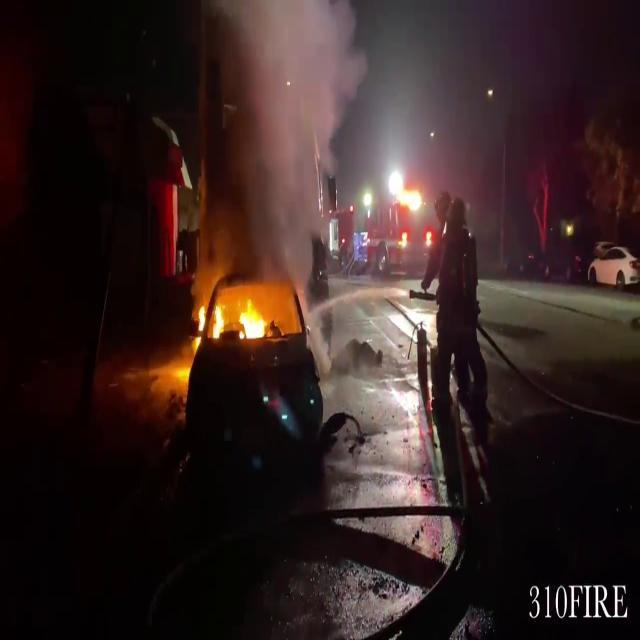Fire: (192, 287, 272, 345)
Smoke: (200, 0, 360, 290)
